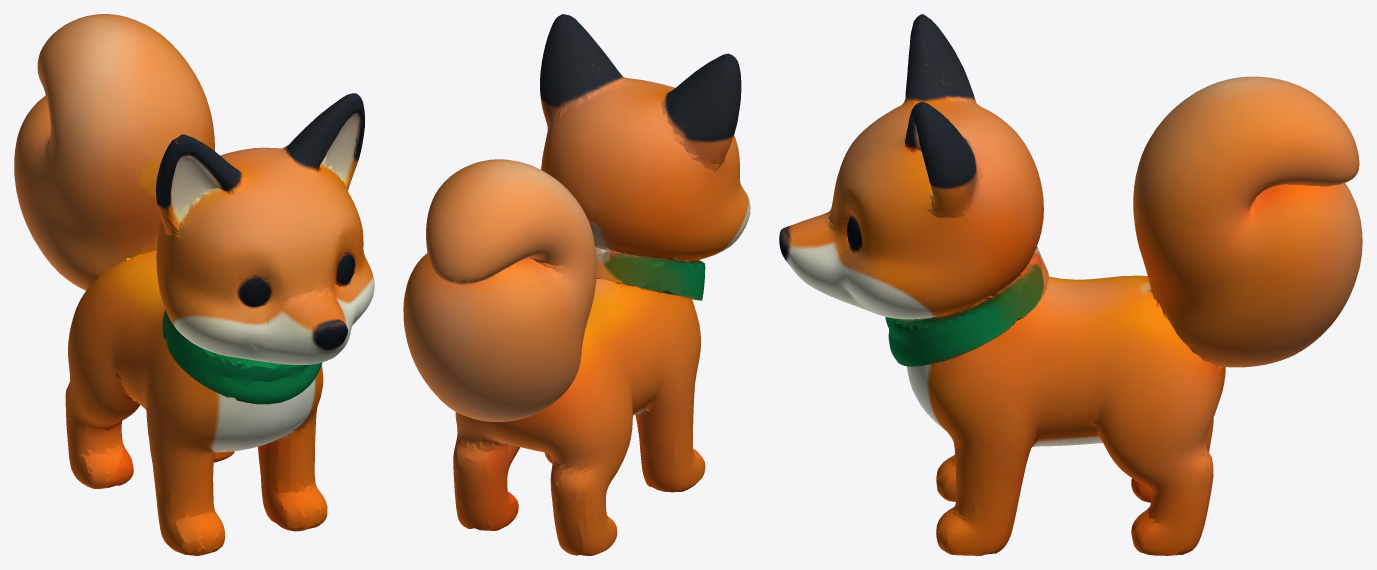
Rendered from fox_1.glb.
3 views of the same model, side by side, from view 1: azimuth 30°, elevation 25°; view 2: azimuth 150°, elevation 25°; view 3: azimuth 270°, elevation 25° (orthographic). The views are drawn at different scales.
Visible parts, largest first — view 1: fox_1; view 2: fox_1; view 3: fox_1.
Part boxes in pixels (left/top/right/bottom): fox_1: left=14, top=14, right=374, bottom=555; fox_1: left=403, top=14, right=750, bottom=555; fox_1: left=779, top=14, right=1362, bottom=555.
Bounding box in the file's own units: 0.4839 × 1 × 1.15.
Materials: 1 (1 with a texture image).
